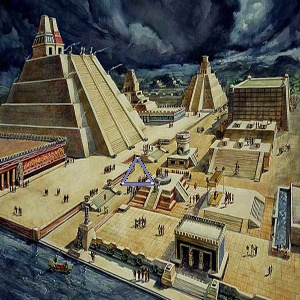triangle: (117, 153, 157, 188)
